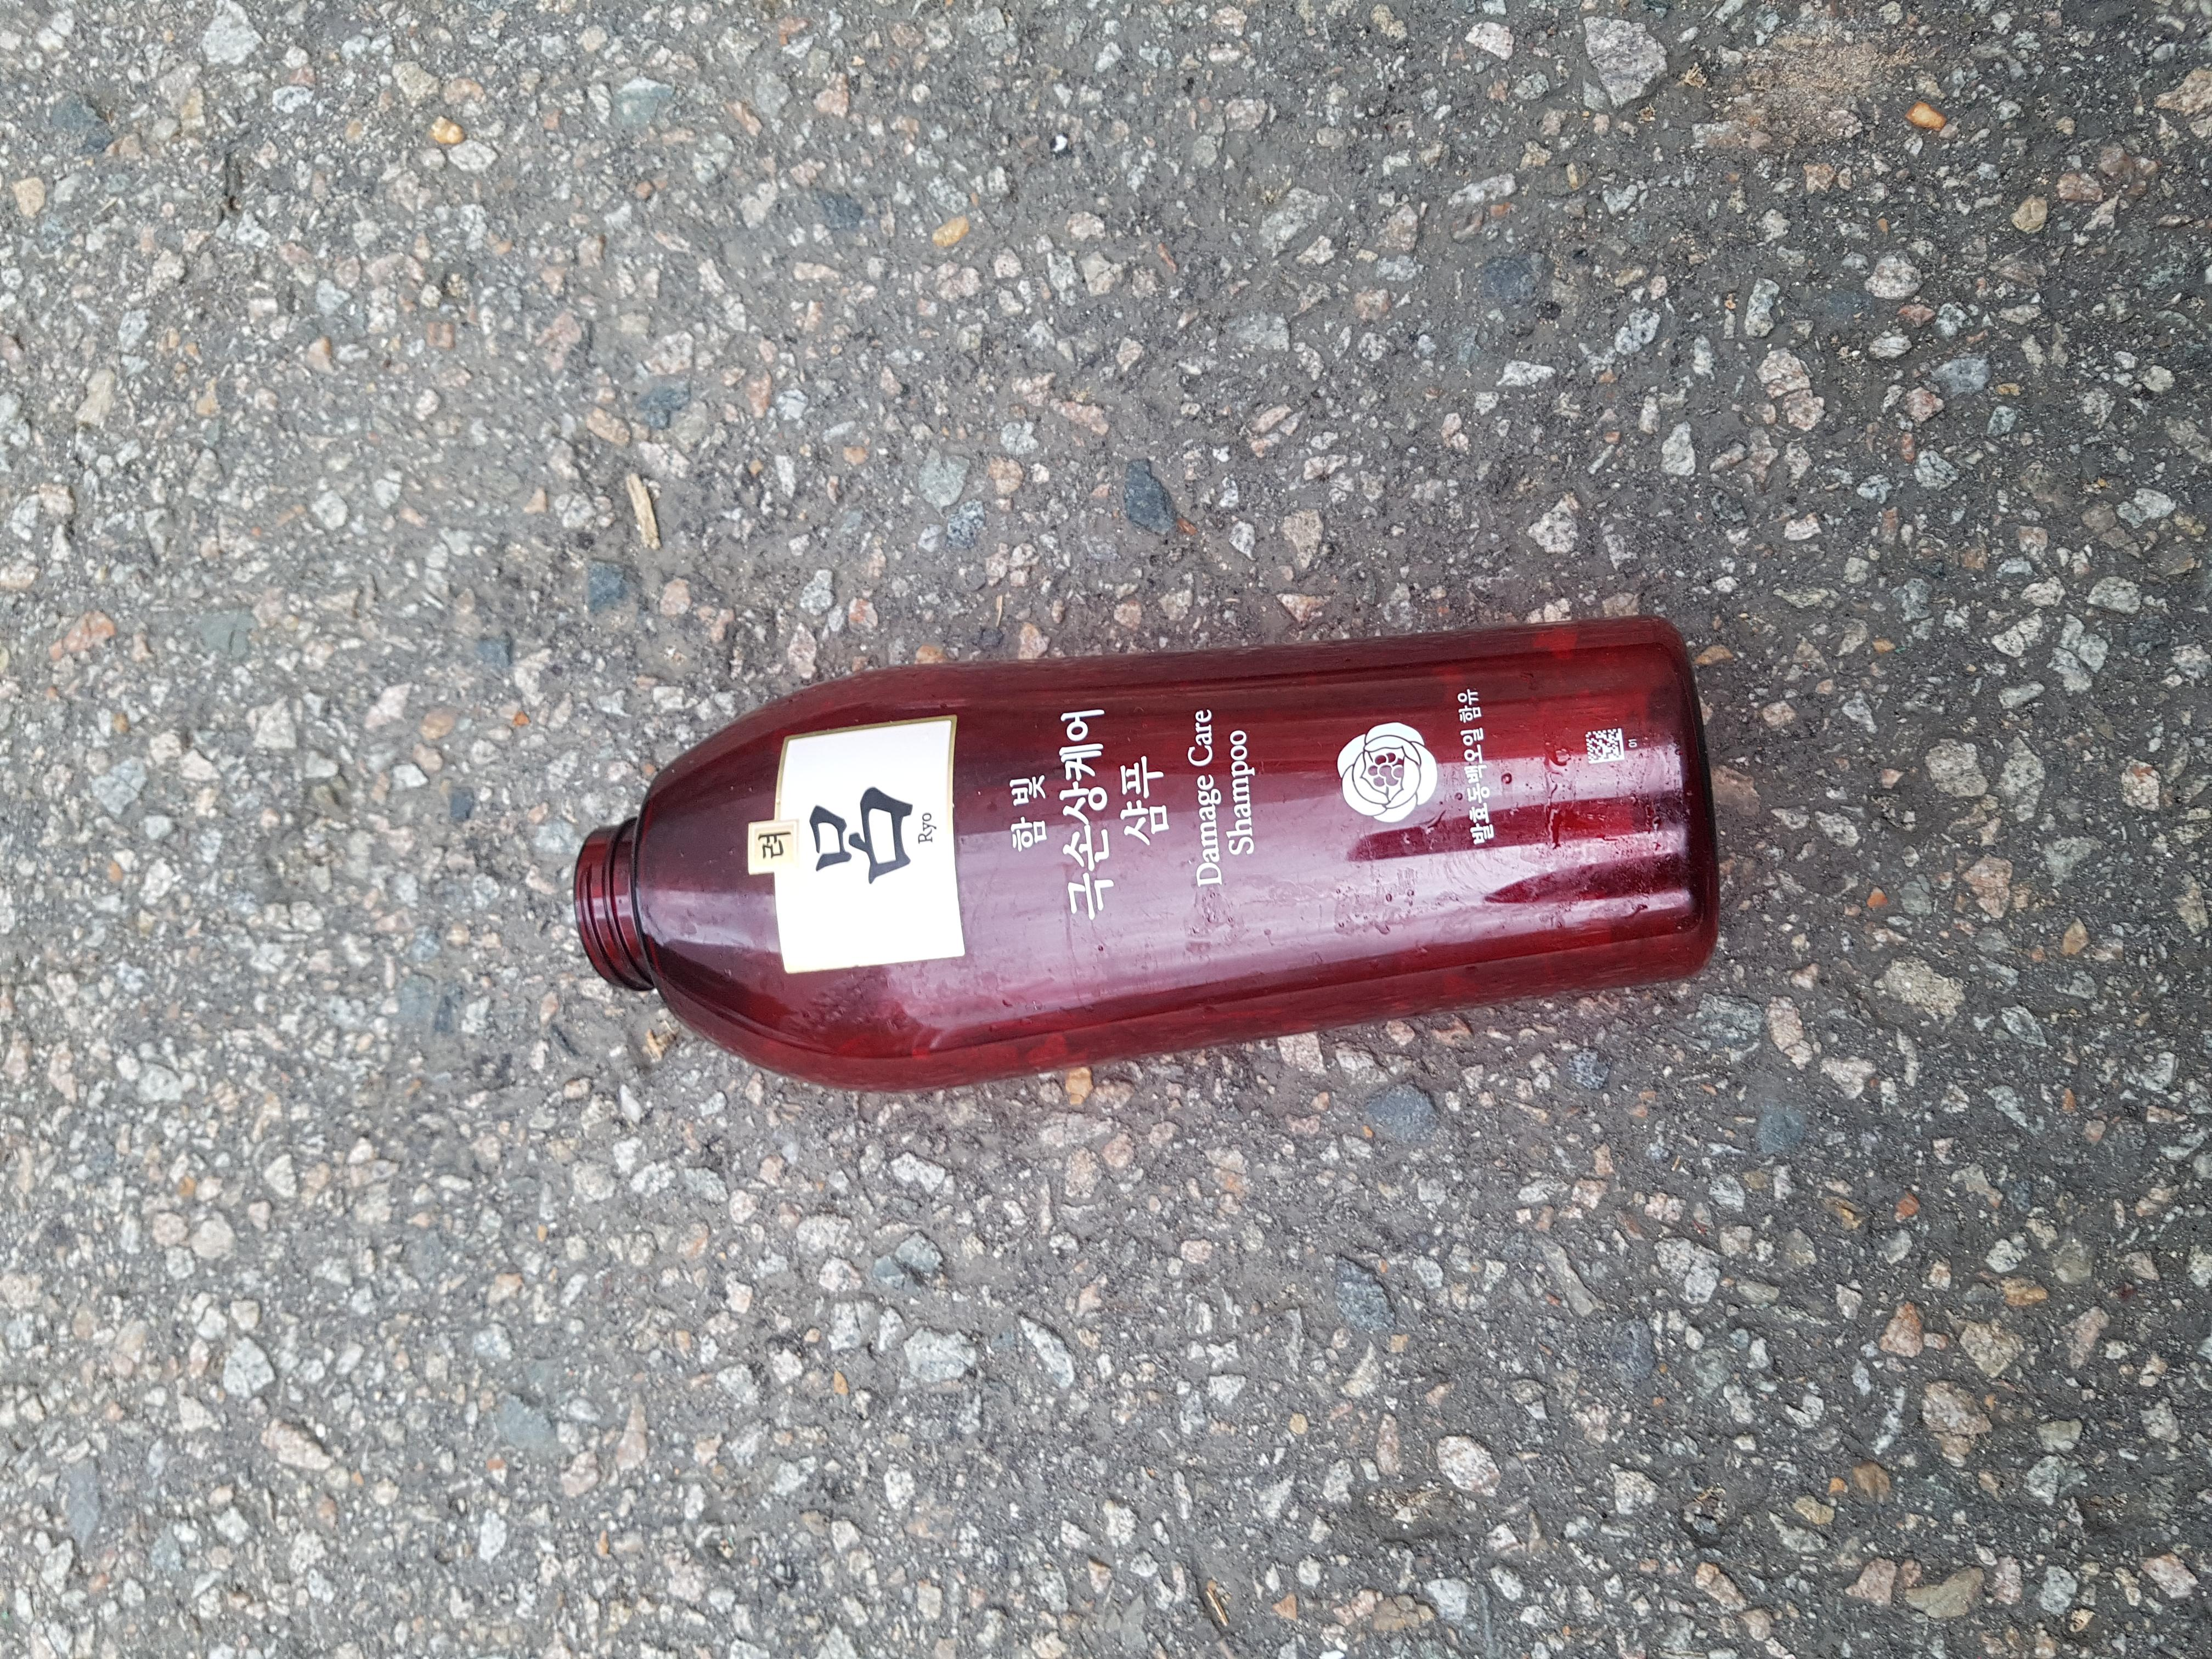bottle: (712, 380, 1510, 1309)
